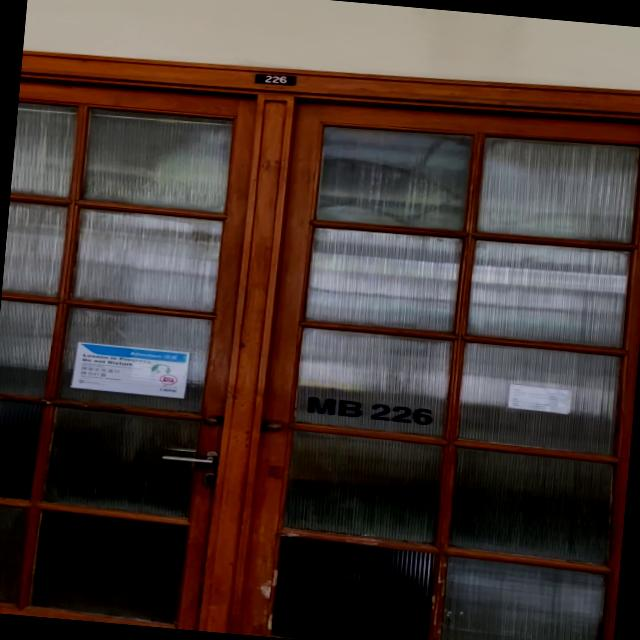room226: (247, 69, 300, 87)
room226Window: (306, 389, 434, 428)
